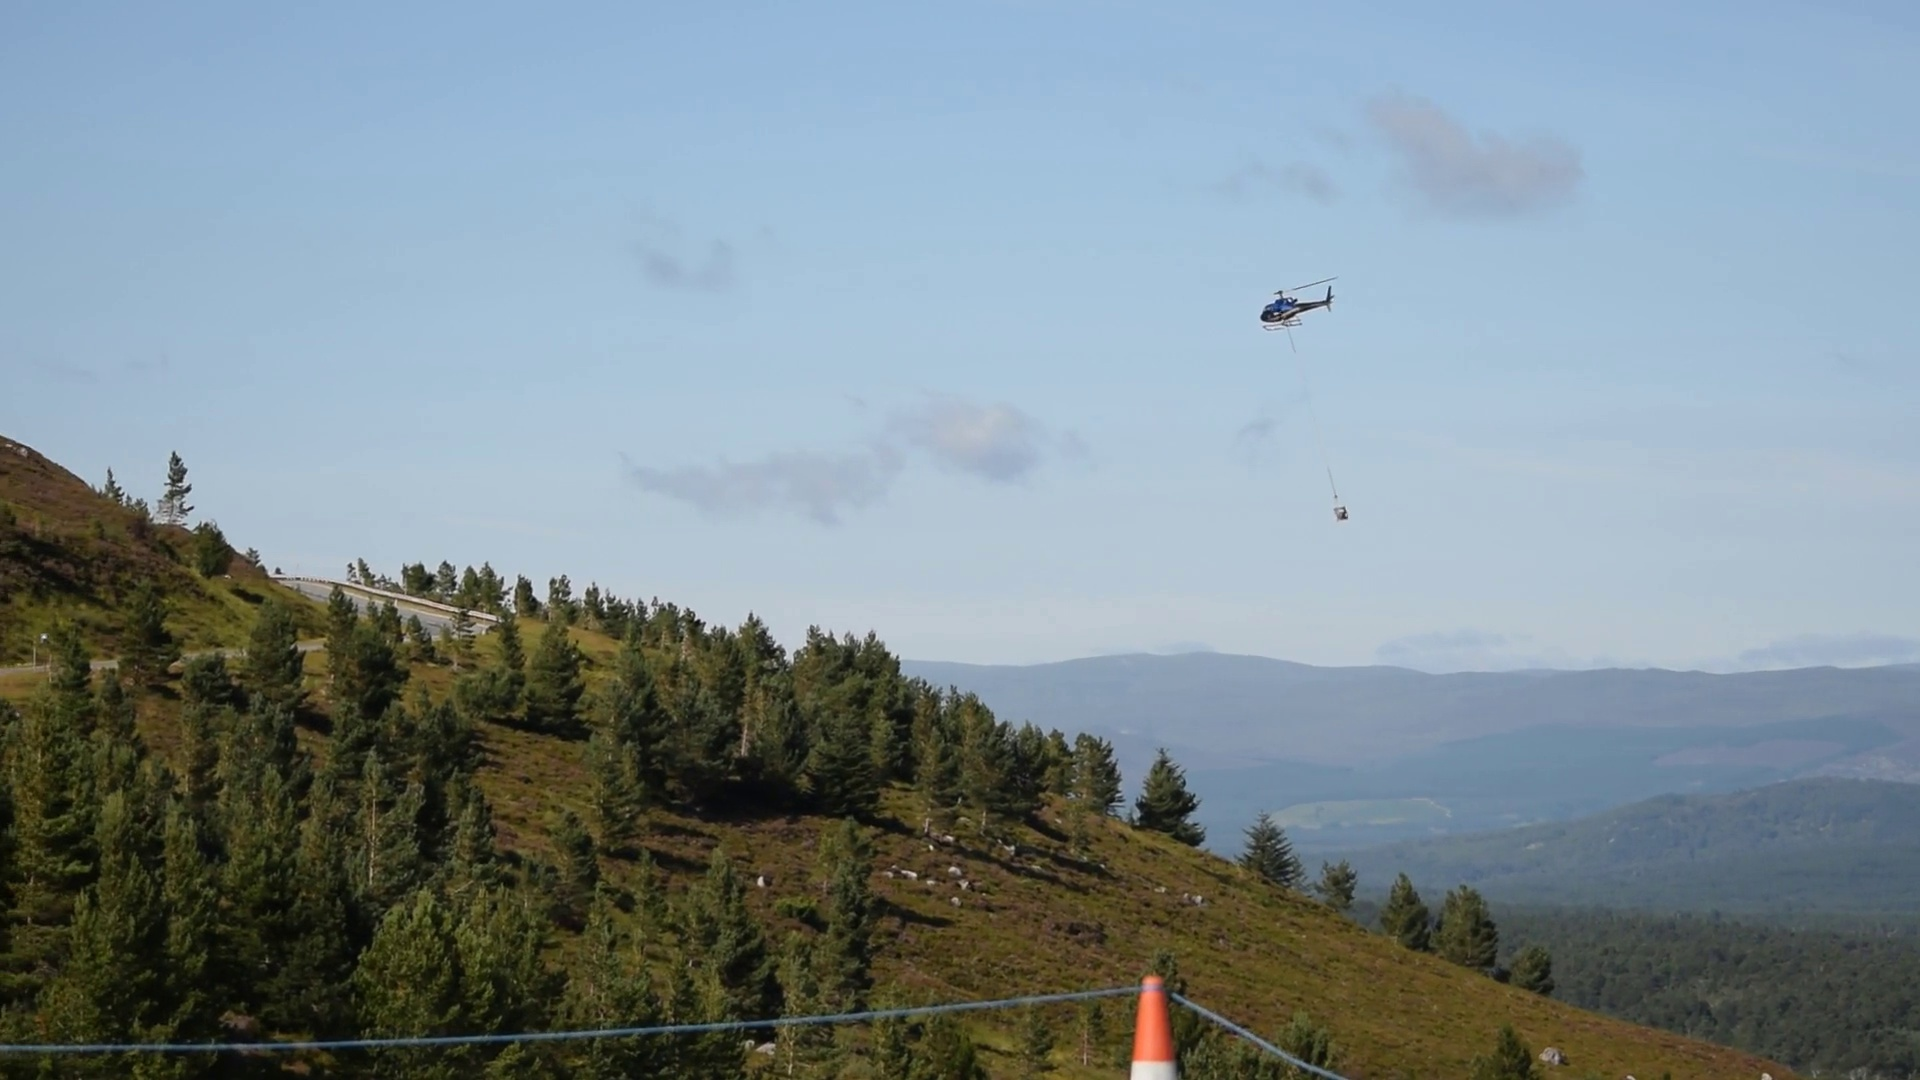heli: (1254, 276, 1335, 332)
